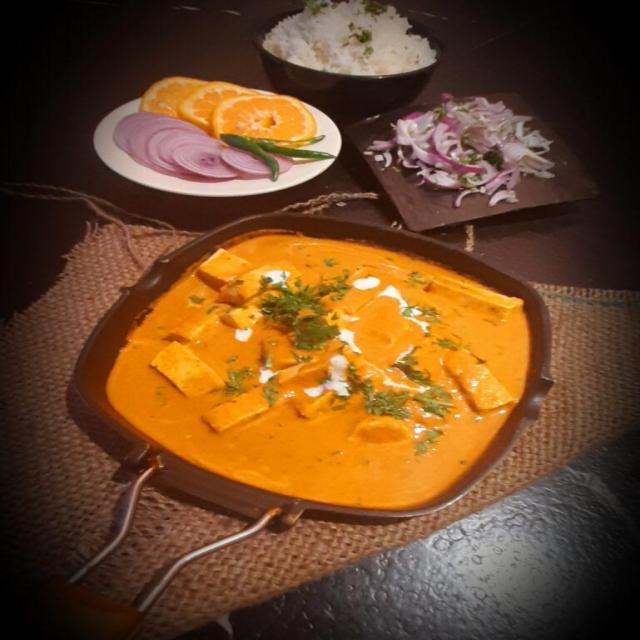rice: (270, 0, 440, 86)
